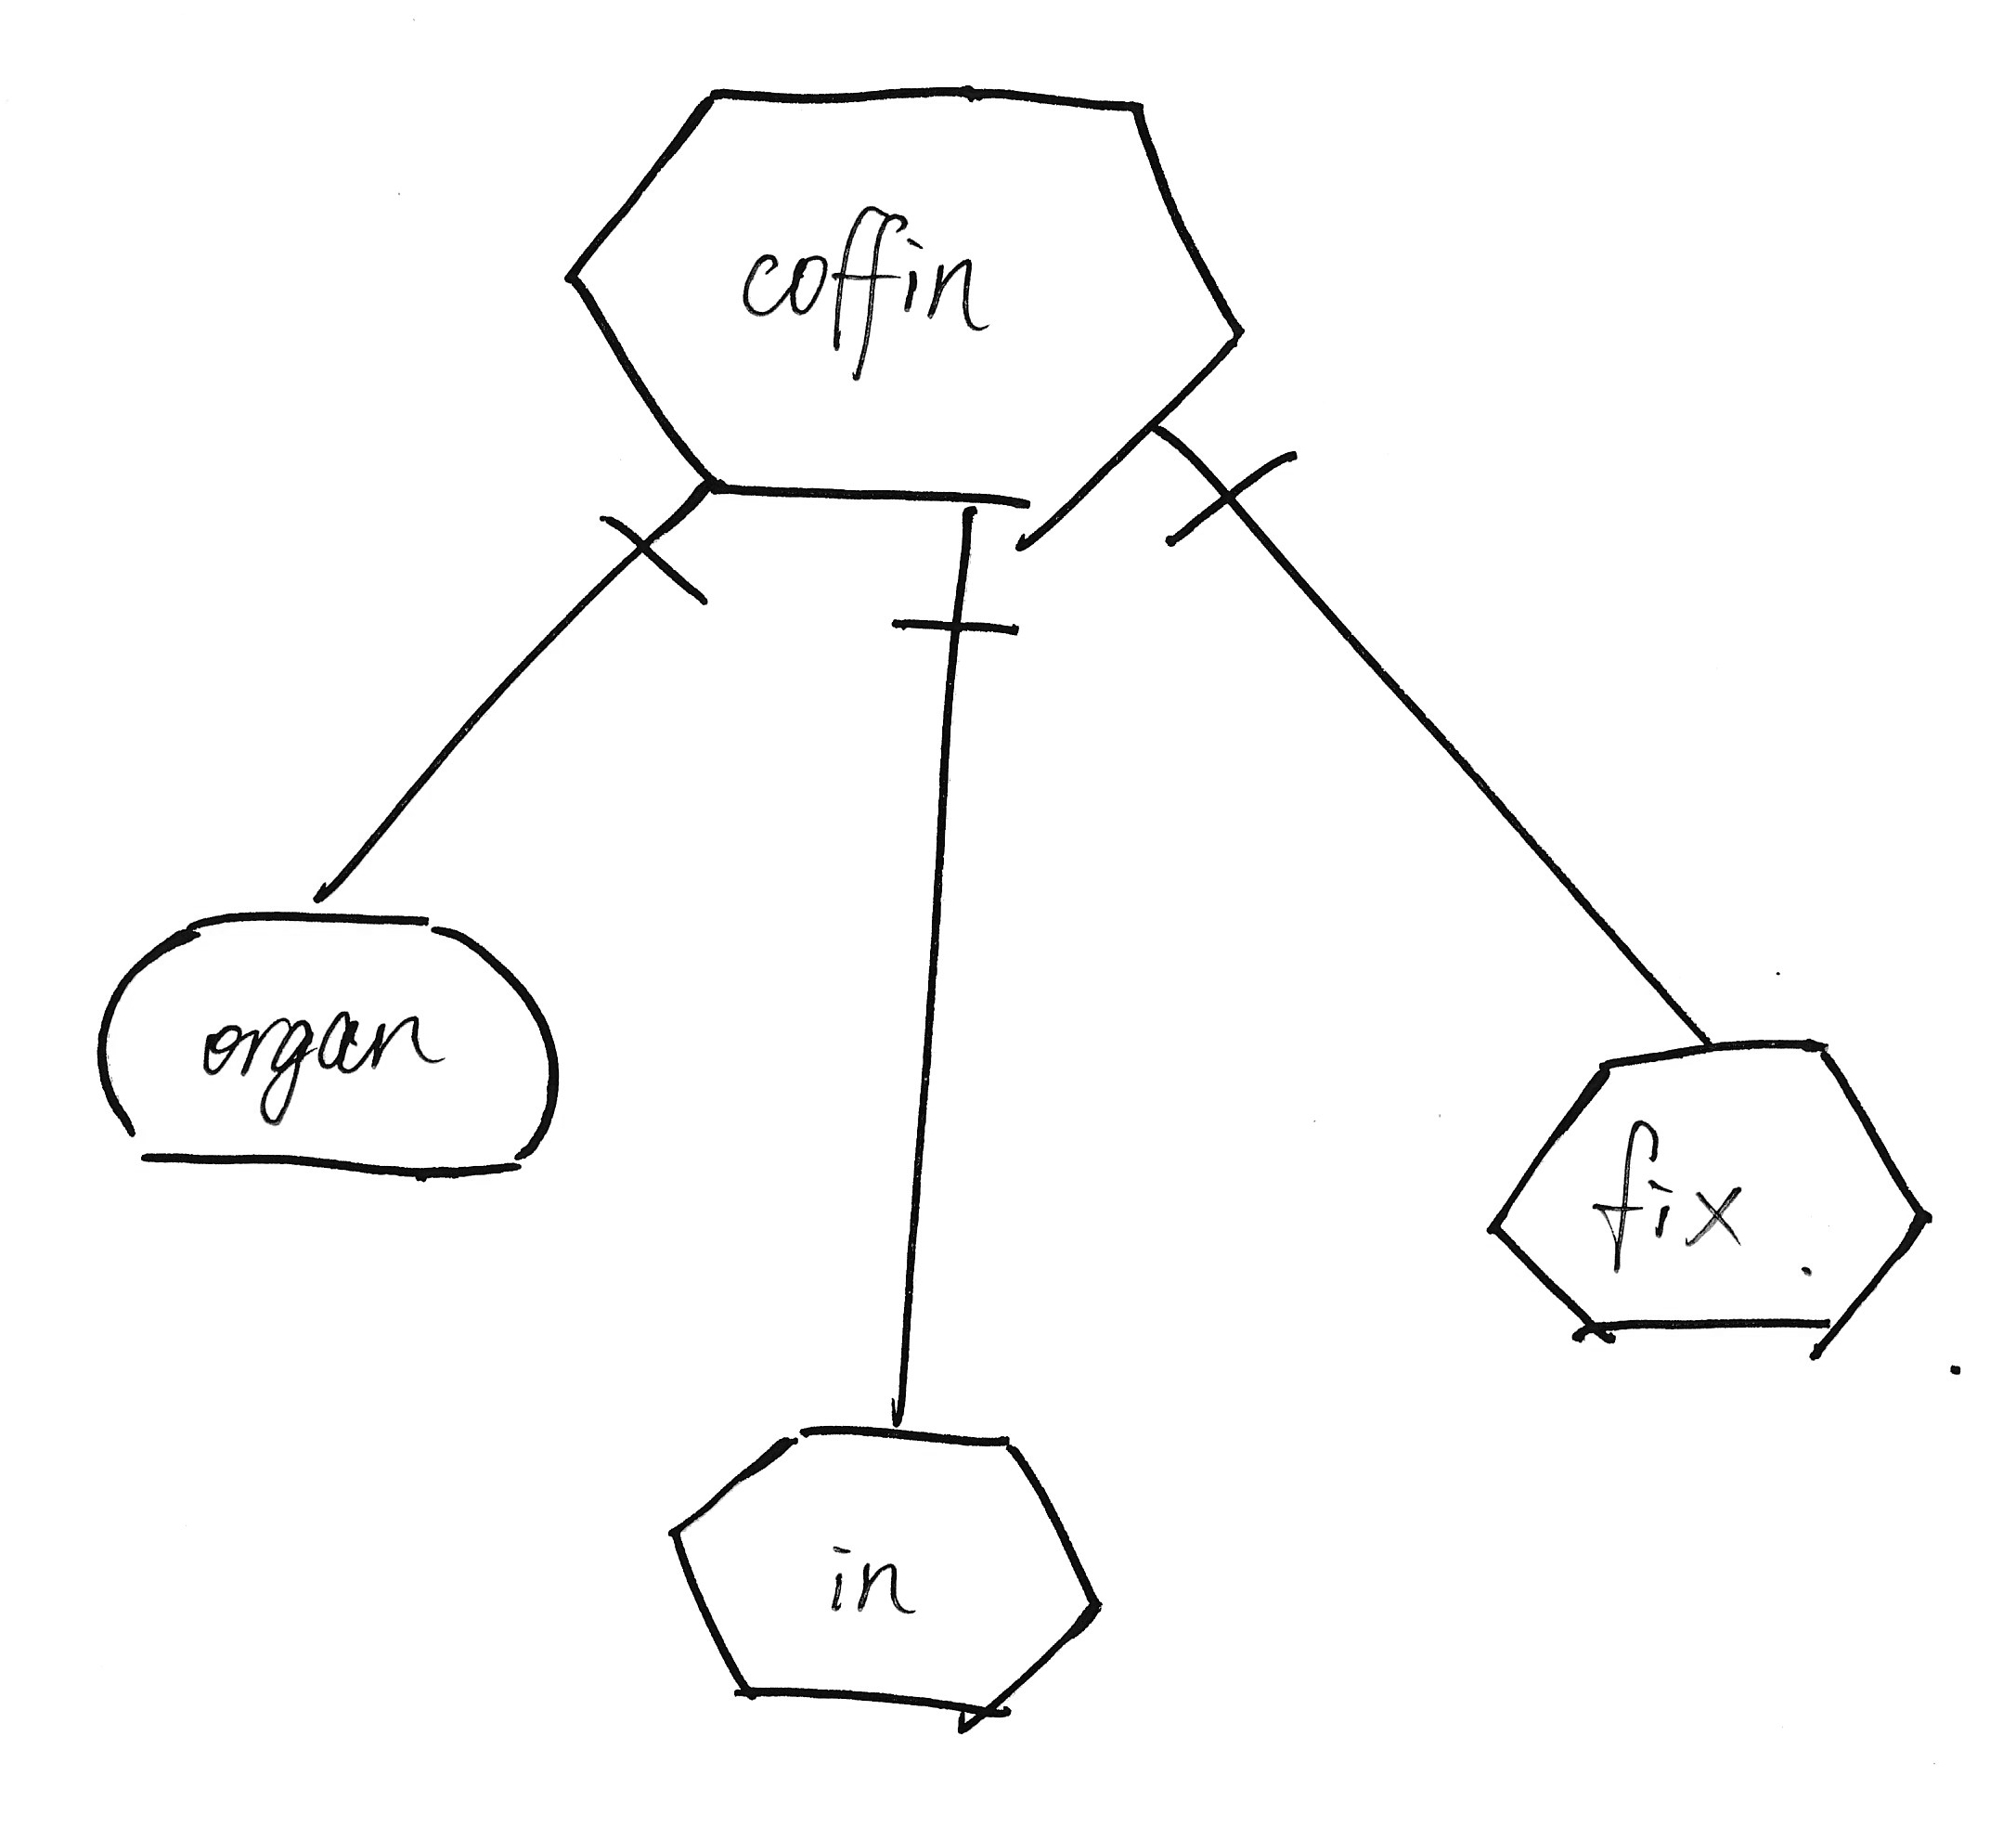and: (876, 529, 1034, 696), (567, 487, 724, 645), (1152, 436, 1315, 581)
goal: (76, 894, 578, 1198)
task: (541, 56, 1264, 560), (1465, 1017, 1955, 1388), (644, 1400, 1117, 1755)
